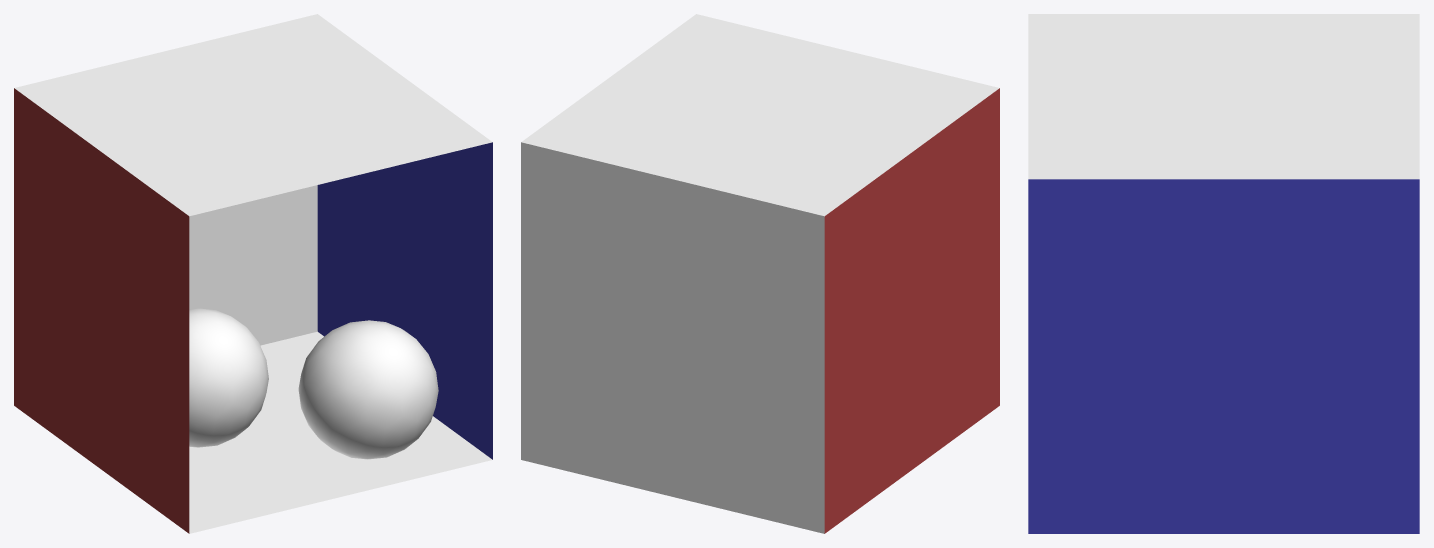
File: cbox.dae
3 renders of one model, left to right at view 1: azimuth 30°, elevation 25°; view 2: azimuth 150°, elevation 25°; view 3: azimuth 270°, elevation 25°, orthographic. The views are drawn at different scales.
Visible parts, largest first — view 1: Square-S3D-13, Square-S3D-15, Square-S3D-14, Square-S3D-17, Square-S3D-16, Object_19-S3D-19-SMOOTHED, Object_18-S3D-18-SMOOTHED; view 2: Square-S3D-16, Square-S3D-13, Square-S3D-15; view 3: Square-S3D-14, Square-S3D-15.
Part boxes in pixels (x1=…): Square-S3D-13: x1=14, y1=88, x2=189, y2=533; Square-S3D-15: x1=14, y1=14, x2=492, y2=216; Square-S3D-14: x1=317, y1=142, x2=492, y2=459; Square-S3D-17: x1=189, y1=331, x2=492, y2=533; Square-S3D-16: x1=189, y1=185, x2=317, y2=345; Object_19-S3D-19-SMOOTHED: x1=298, y1=320, x2=438, y2=459; Object_18-S3D-18-SMOOTHED: x1=189, y1=308, x2=268, y2=447; Square-S3D-16: x1=521, y1=142, x2=824, y2=533; Square-S3D-13: x1=824, y1=88, x2=999, y2=533; Square-S3D-15: x1=521, y1=14, x2=999, y2=216; Square-S3D-14: x1=1028, y1=179, x2=1419, y2=533; Square-S3D-15: x1=1028, y1=14, x2=1419, y2=179.
Size of the model in its own units: 1 by 1 by 1.
